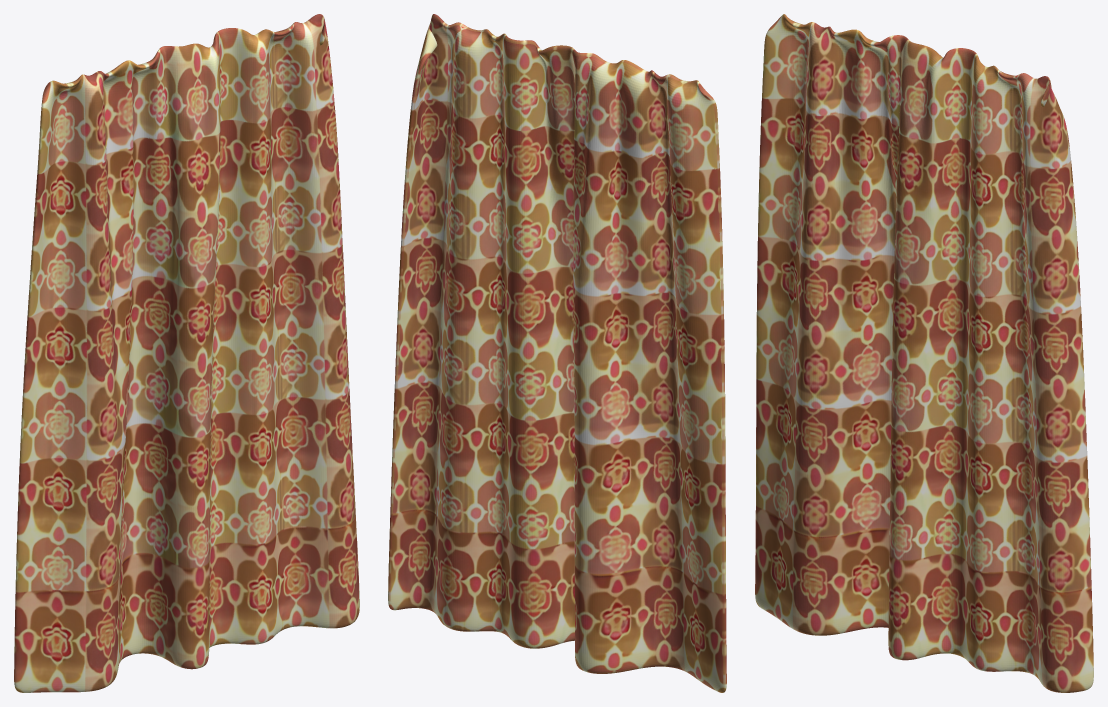
Rendered from tende_nuove.fbx.
3 renders of one model, left to right at view 1: azimuth 30°, elevation 25°; view 2: azimuth 150°, elevation 25°; view 3: azimuth 330°, elevation 25°, orthographic.
Visible parts, largest first — view 1: tenda; view 2: tenda; view 3: tenda.
Part boxes in pixels (box(x1,y1,x2,y2)): tenda: box(14, 14, 359, 692); tenda: box(388, 14, 726, 692); tenda: box(755, 14, 1093, 692).
Bounding box in the file's own units: 52.66 × 89.98 × 9.08.
